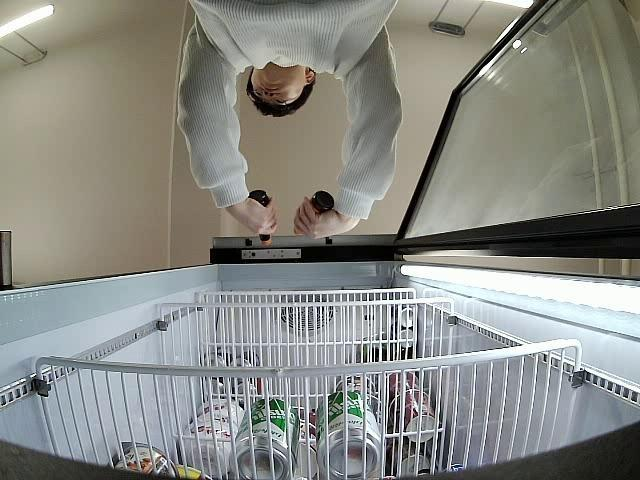17_vita500: (294, 190, 335, 238), (248, 190, 274, 248)
